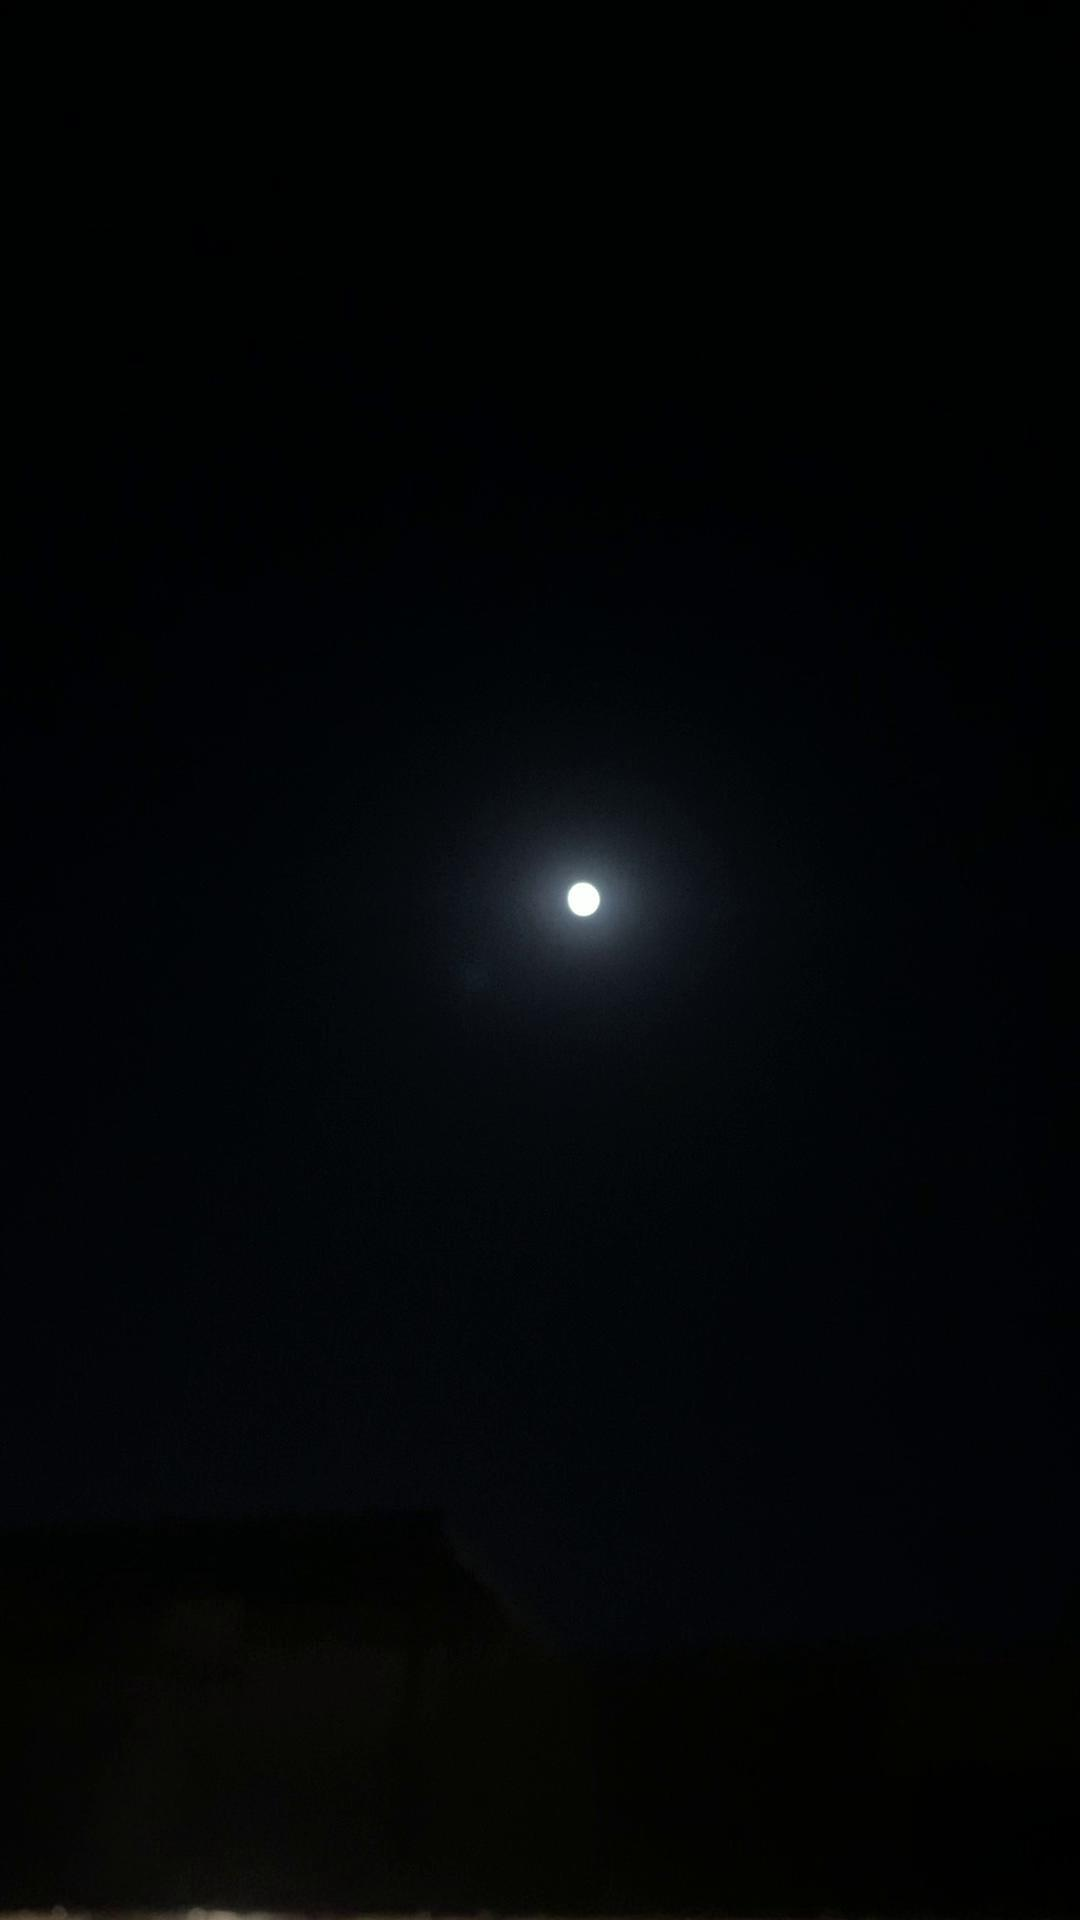moon: (535, 847, 622, 942)
